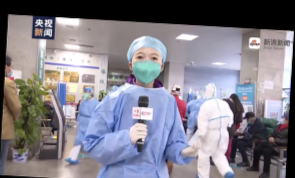with_mask: (129, 50, 162, 84), (6, 65, 13, 78), (82, 90, 91, 99), (279, 117, 288, 126), (245, 117, 254, 126)
